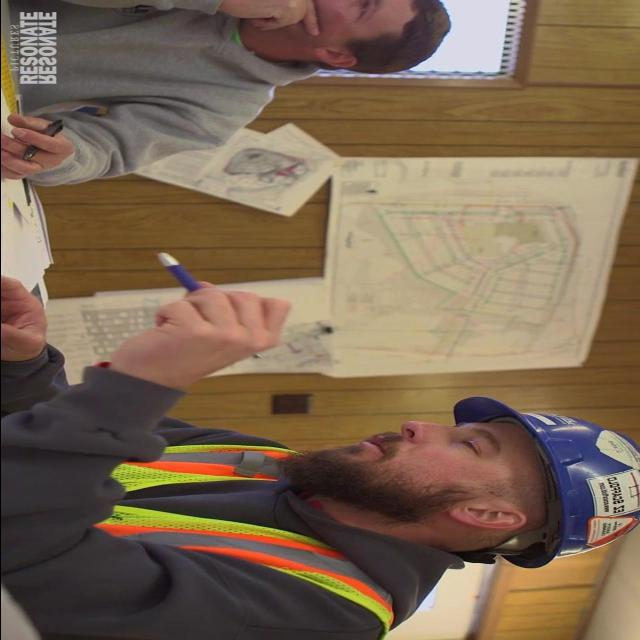helmet: (457, 384, 640, 584)
jacket: (13, 433, 425, 640)
